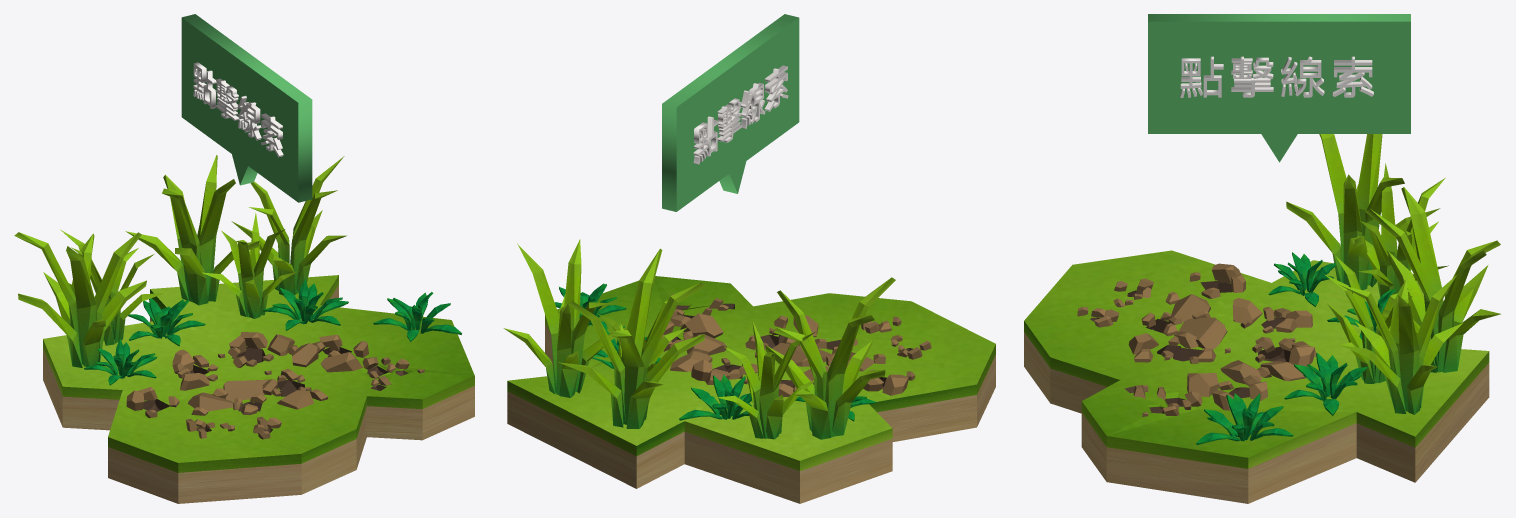
Rendered from clue3.glb.
3 views of the same model, side by side, from view 1: azimuth 30°, elevation 25°; view 2: azimuth 150°, elevation 25°; view 3: azimuth 270°, elevation 25° (orthographic). The views are drawn at different scales.
Visible parts, largest first — view 1: clue3_game1, 對話框01.001; view 2: clue3_game1, 對話框01.001; view 3: clue3_game1, 對話框01.001.
Part boxes in pixels (box(x1,y1,x2,y2)): clue3_game1: box(14, 155, 474, 503); 對話框01.001: box(181, 14, 312, 202); clue3_game1: box(503, 239, 995, 503); 對話框01.001: box(662, 14, 799, 211); clue3_game1: box(1024, 134, 1500, 503); 對話框01.001: box(1148, 14, 1410, 162).
Bounding box in the file's own units: 8.73 × 7.46 × 8.47.
2 materials, 2 textured.
